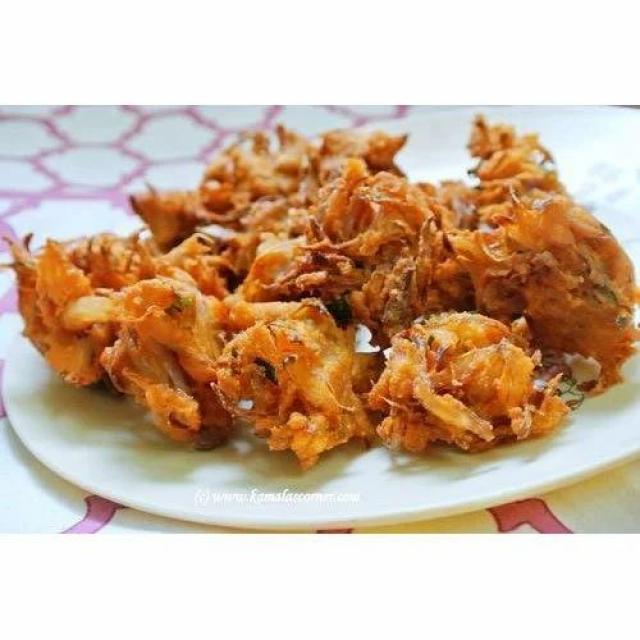BAJI: (10, 118, 639, 463)
